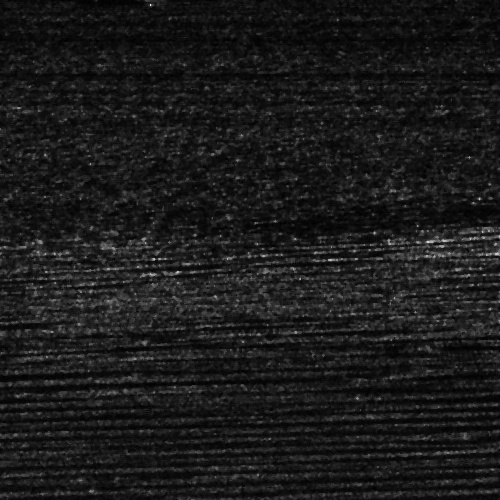shadow: (0, 0, 92, 6)
